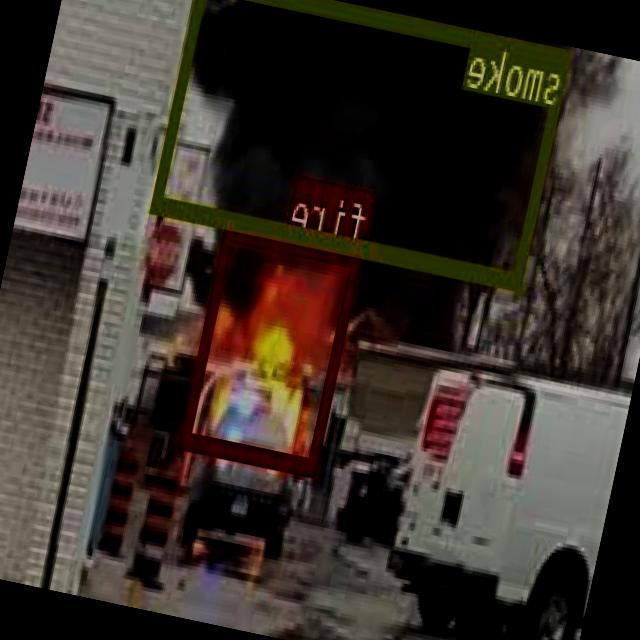fire: (180, 220, 364, 474)
smoke: (153, 0, 572, 287)
